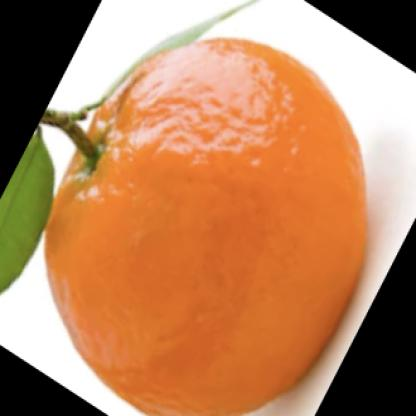fresh: (43, 36, 367, 416)
